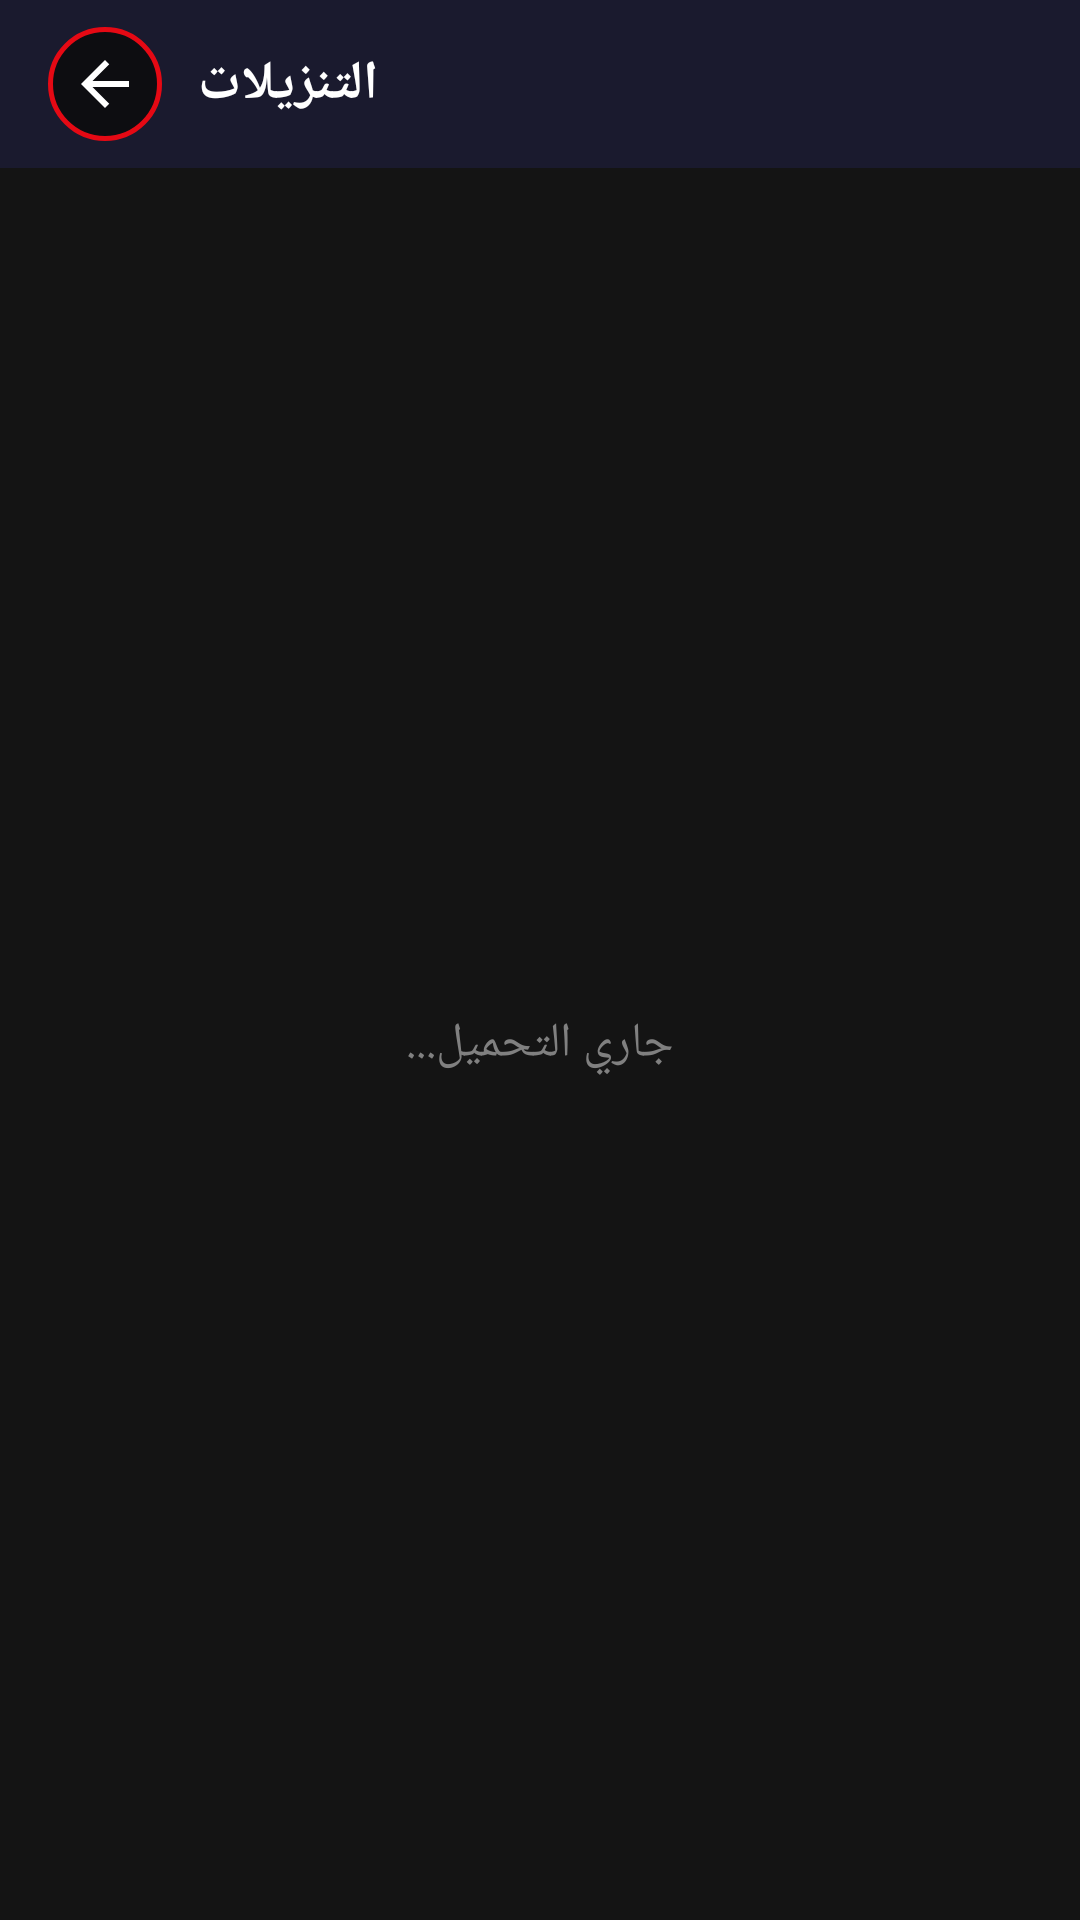

Icon bounding boxes for this 1080px x 1920px phone screenshot, format (x1, y1, x2, y2):
back arrow: (48, 27, 162, 141)
